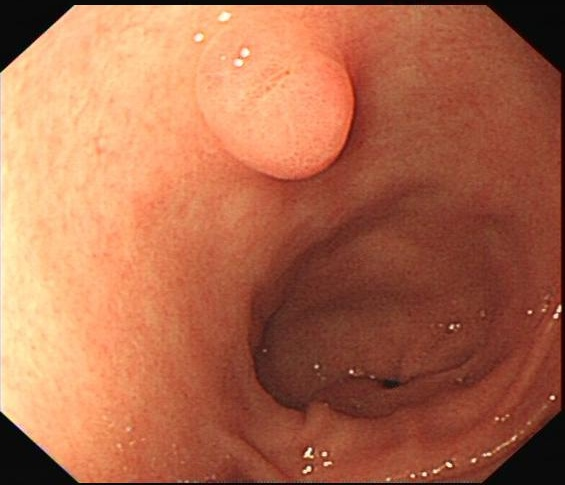Polyp: (199, 44, 357, 193)
